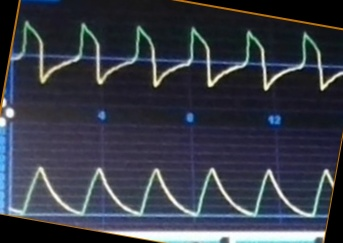Normal Flow: (16, 18, 343, 97)
Normal Volume: (12, 154, 332, 217)
